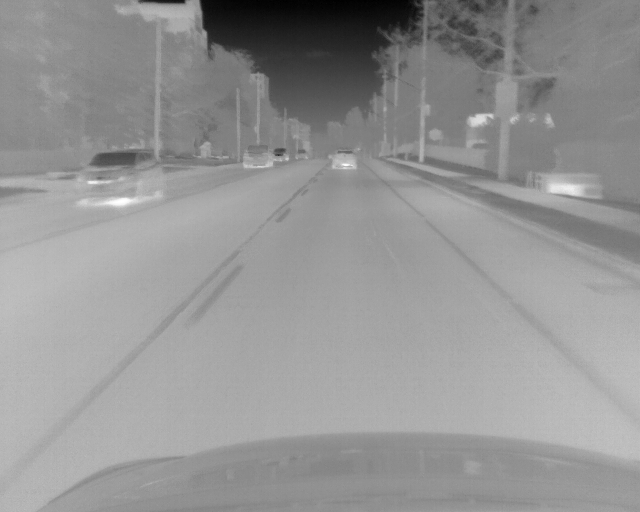car: (75, 149, 166, 207), (242, 145, 273, 168), (330, 149, 357, 171), (272, 147, 290, 162), (295, 149, 308, 160)
